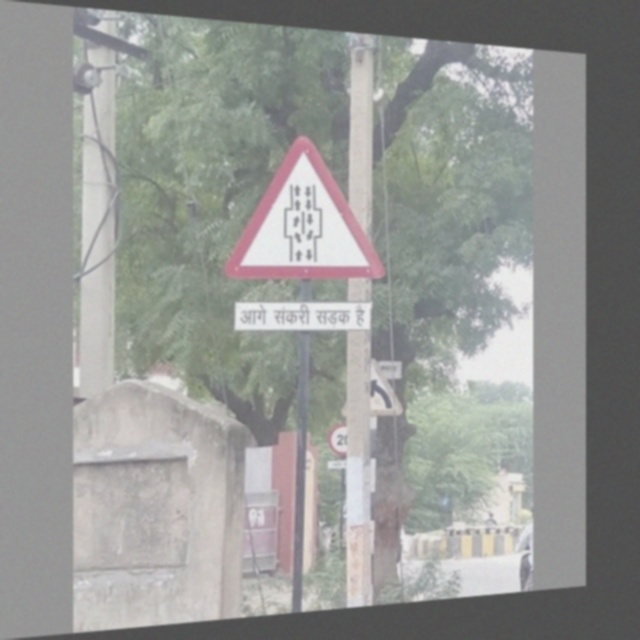Narrow_Road_Ahead: (219, 133, 383, 282)
